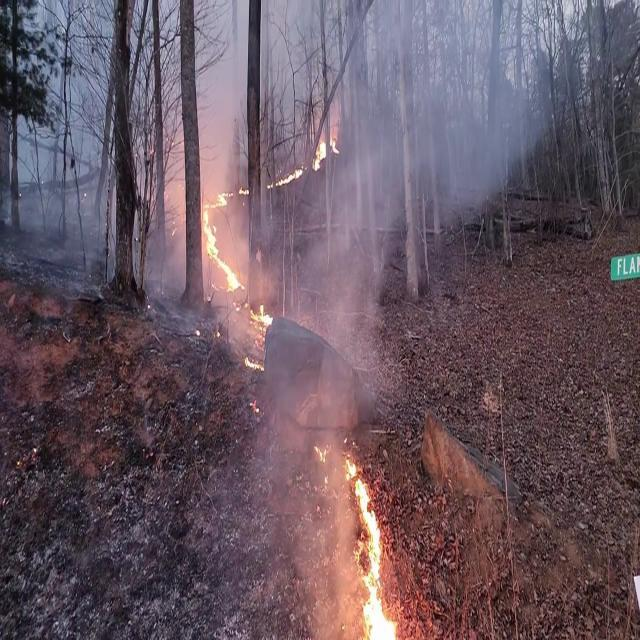Fire: (346, 458, 400, 640), (200, 175, 242, 288), (239, 294, 277, 371), (307, 121, 339, 175)
Smoke: (331, 0, 621, 198), (250, 188, 400, 484)
